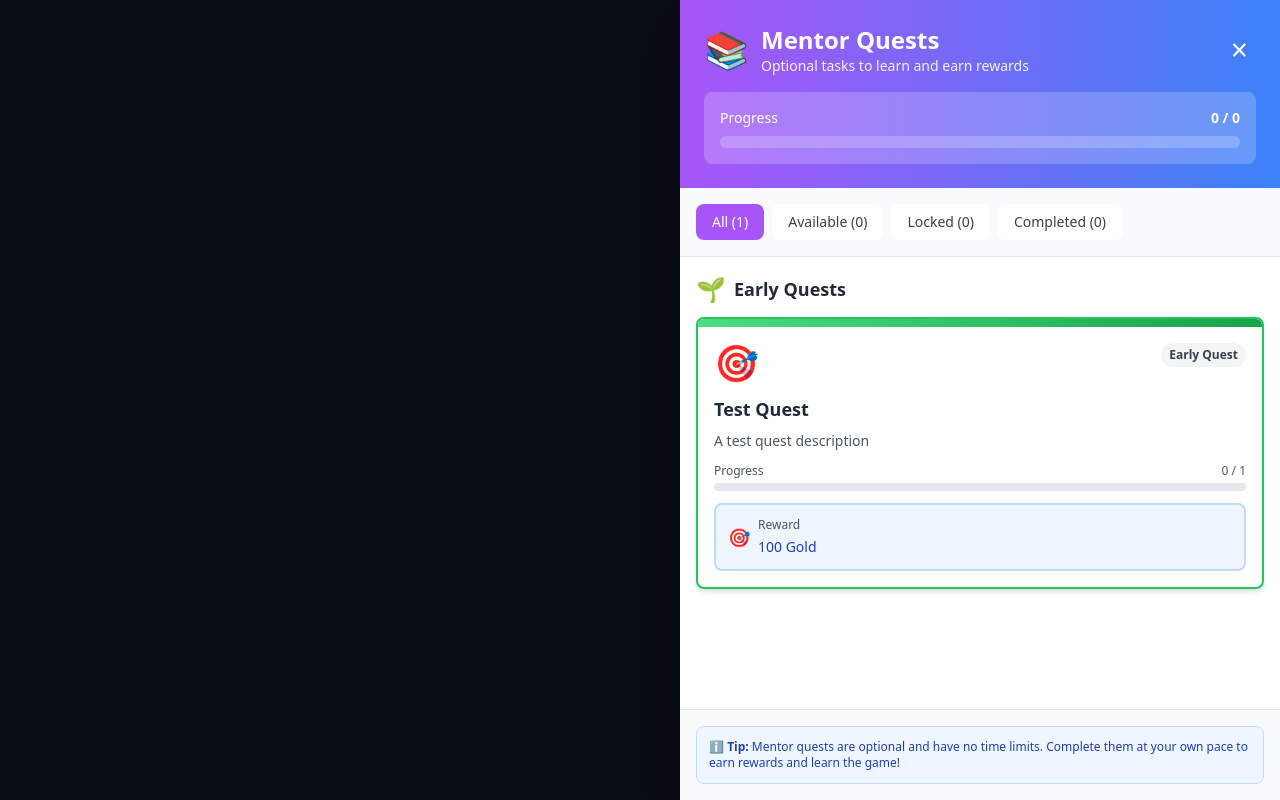
it: MentorQuestPanel › Empty State › should show empty state when no quests match filter
Click on Locked filter
Click the button "Locked (0)". click: point(941, 222)
box: x1=891 y1=204 x2=990 y2=240
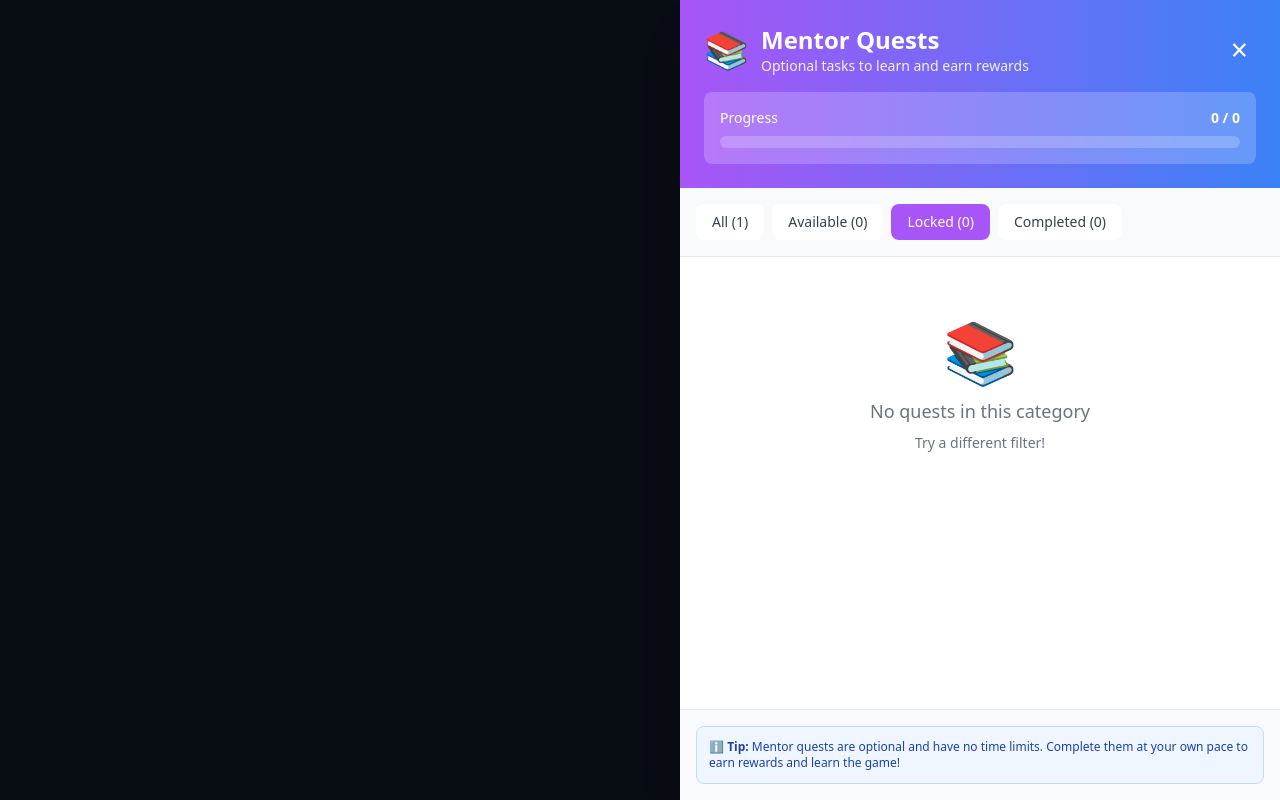
Check: the text "No quests in this category" is shown, box x1=870 y1=399 x2=1090 y2=423
Check: the text "Try a different filter!" is shown, box x1=915 y1=433 x2=1045 y2=452
